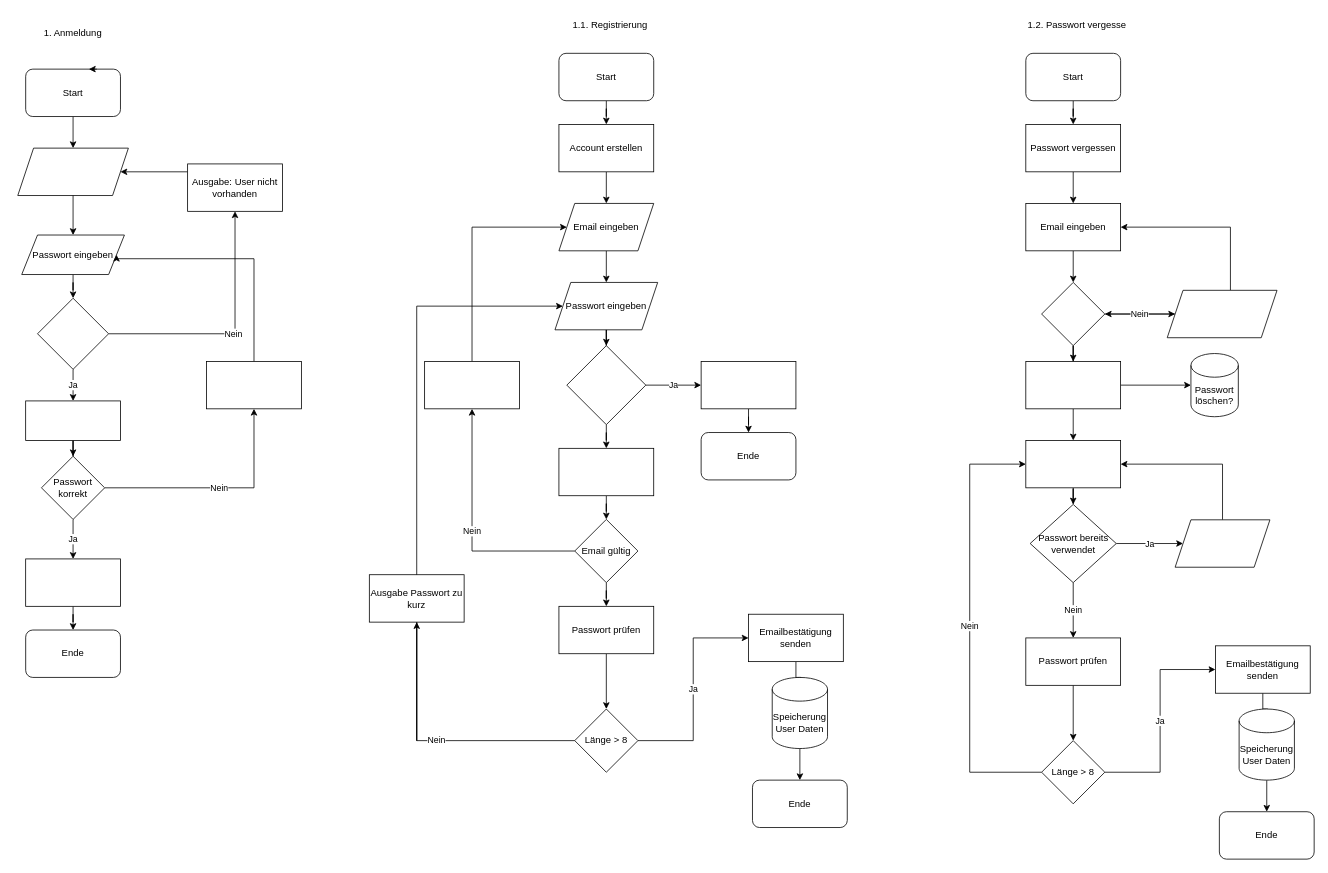
Some shapes in this 1328 by 873 pixel diagram are drawn without their labels. Here are the shapes that lost their labels. From the top down, the centre of each, then its label:
At point 72,171: "Username /Email eingeben".
At point 73,333: "Username vorhanden".
At point 1073,314: "Konto exisitiert".
At point 1221,314: "Konto existiert nicht".
At point 253,385: "Ausgabe: Passwort falsch".
At point 471,385: "Ausgabe: Bitte gültige Email eingeben".
At point 606,385: "Konto existiert bereits".
At point 748,385: "Ausgabe Konto existiert bereits".
At point 1073,385: "Email an User senden".
At point 72,420: "User existiert".
At point 606,472: "Konto nicht vorhanden".
At point 1073,464: "Neues Passwort festlegen".
At point 1222,543: "Neues Passwort eingeben".
At point 72,582: "Anmeldung erfolgreich".
